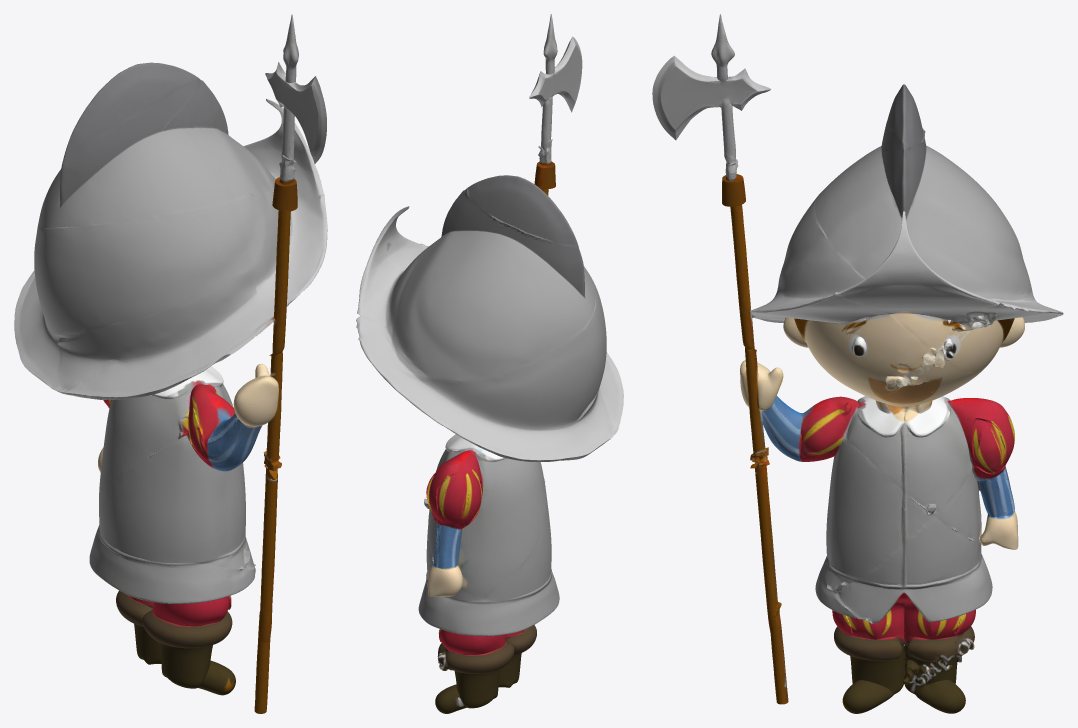
File: cartoon+knight+3d+model.glb
3 renders of one model, left to right at view 1: azimuth 30°, elevation 25°; view 2: azimuth 150°, elevation 25°; view 3: azimuth 270°, elevation 25°, orthographic. The views are drawn at different scales.
Visible parts, largest first — view 1: tripo_node_841bb953-070e-4c6a-9d36-10e0ac89d80e; view 2: tripo_node_841bb953-070e-4c6a-9d36-10e0ac89d80e; view 3: tripo_node_841bb953-070e-4c6a-9d36-10e0ac89d80e.
Part boxes in pixels (x1,y1,x2,y2): tripo_node_841bb953-070e-4c6a-9d36-10e0ac89d80e: (14, 14, 327, 713); tripo_node_841bb953-070e-4c6a-9d36-10e0ac89d80e: (356, 14, 623, 713); tripo_node_841bb953-070e-4c6a-9d36-10e0ac89d80e: (652, 14, 1063, 713).
Size of the model in its own units: 0.3657 by 1 by 0.534.
Materials: 1 (1 with a texture image).
